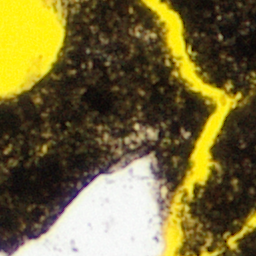air_pores: (0, 0, 66, 100)
cement_matrix: (0, 0, 211, 255), (164, 0, 255, 255), (131, 129, 154, 143), (226, 235, 238, 247)
cracks: (140, 0, 239, 255), (243, 212, 255, 230)
gravel_crushed_stones: (11, 160, 165, 255), (132, 130, 153, 142), (227, 236, 237, 246), (0, 254, 3, 255)
